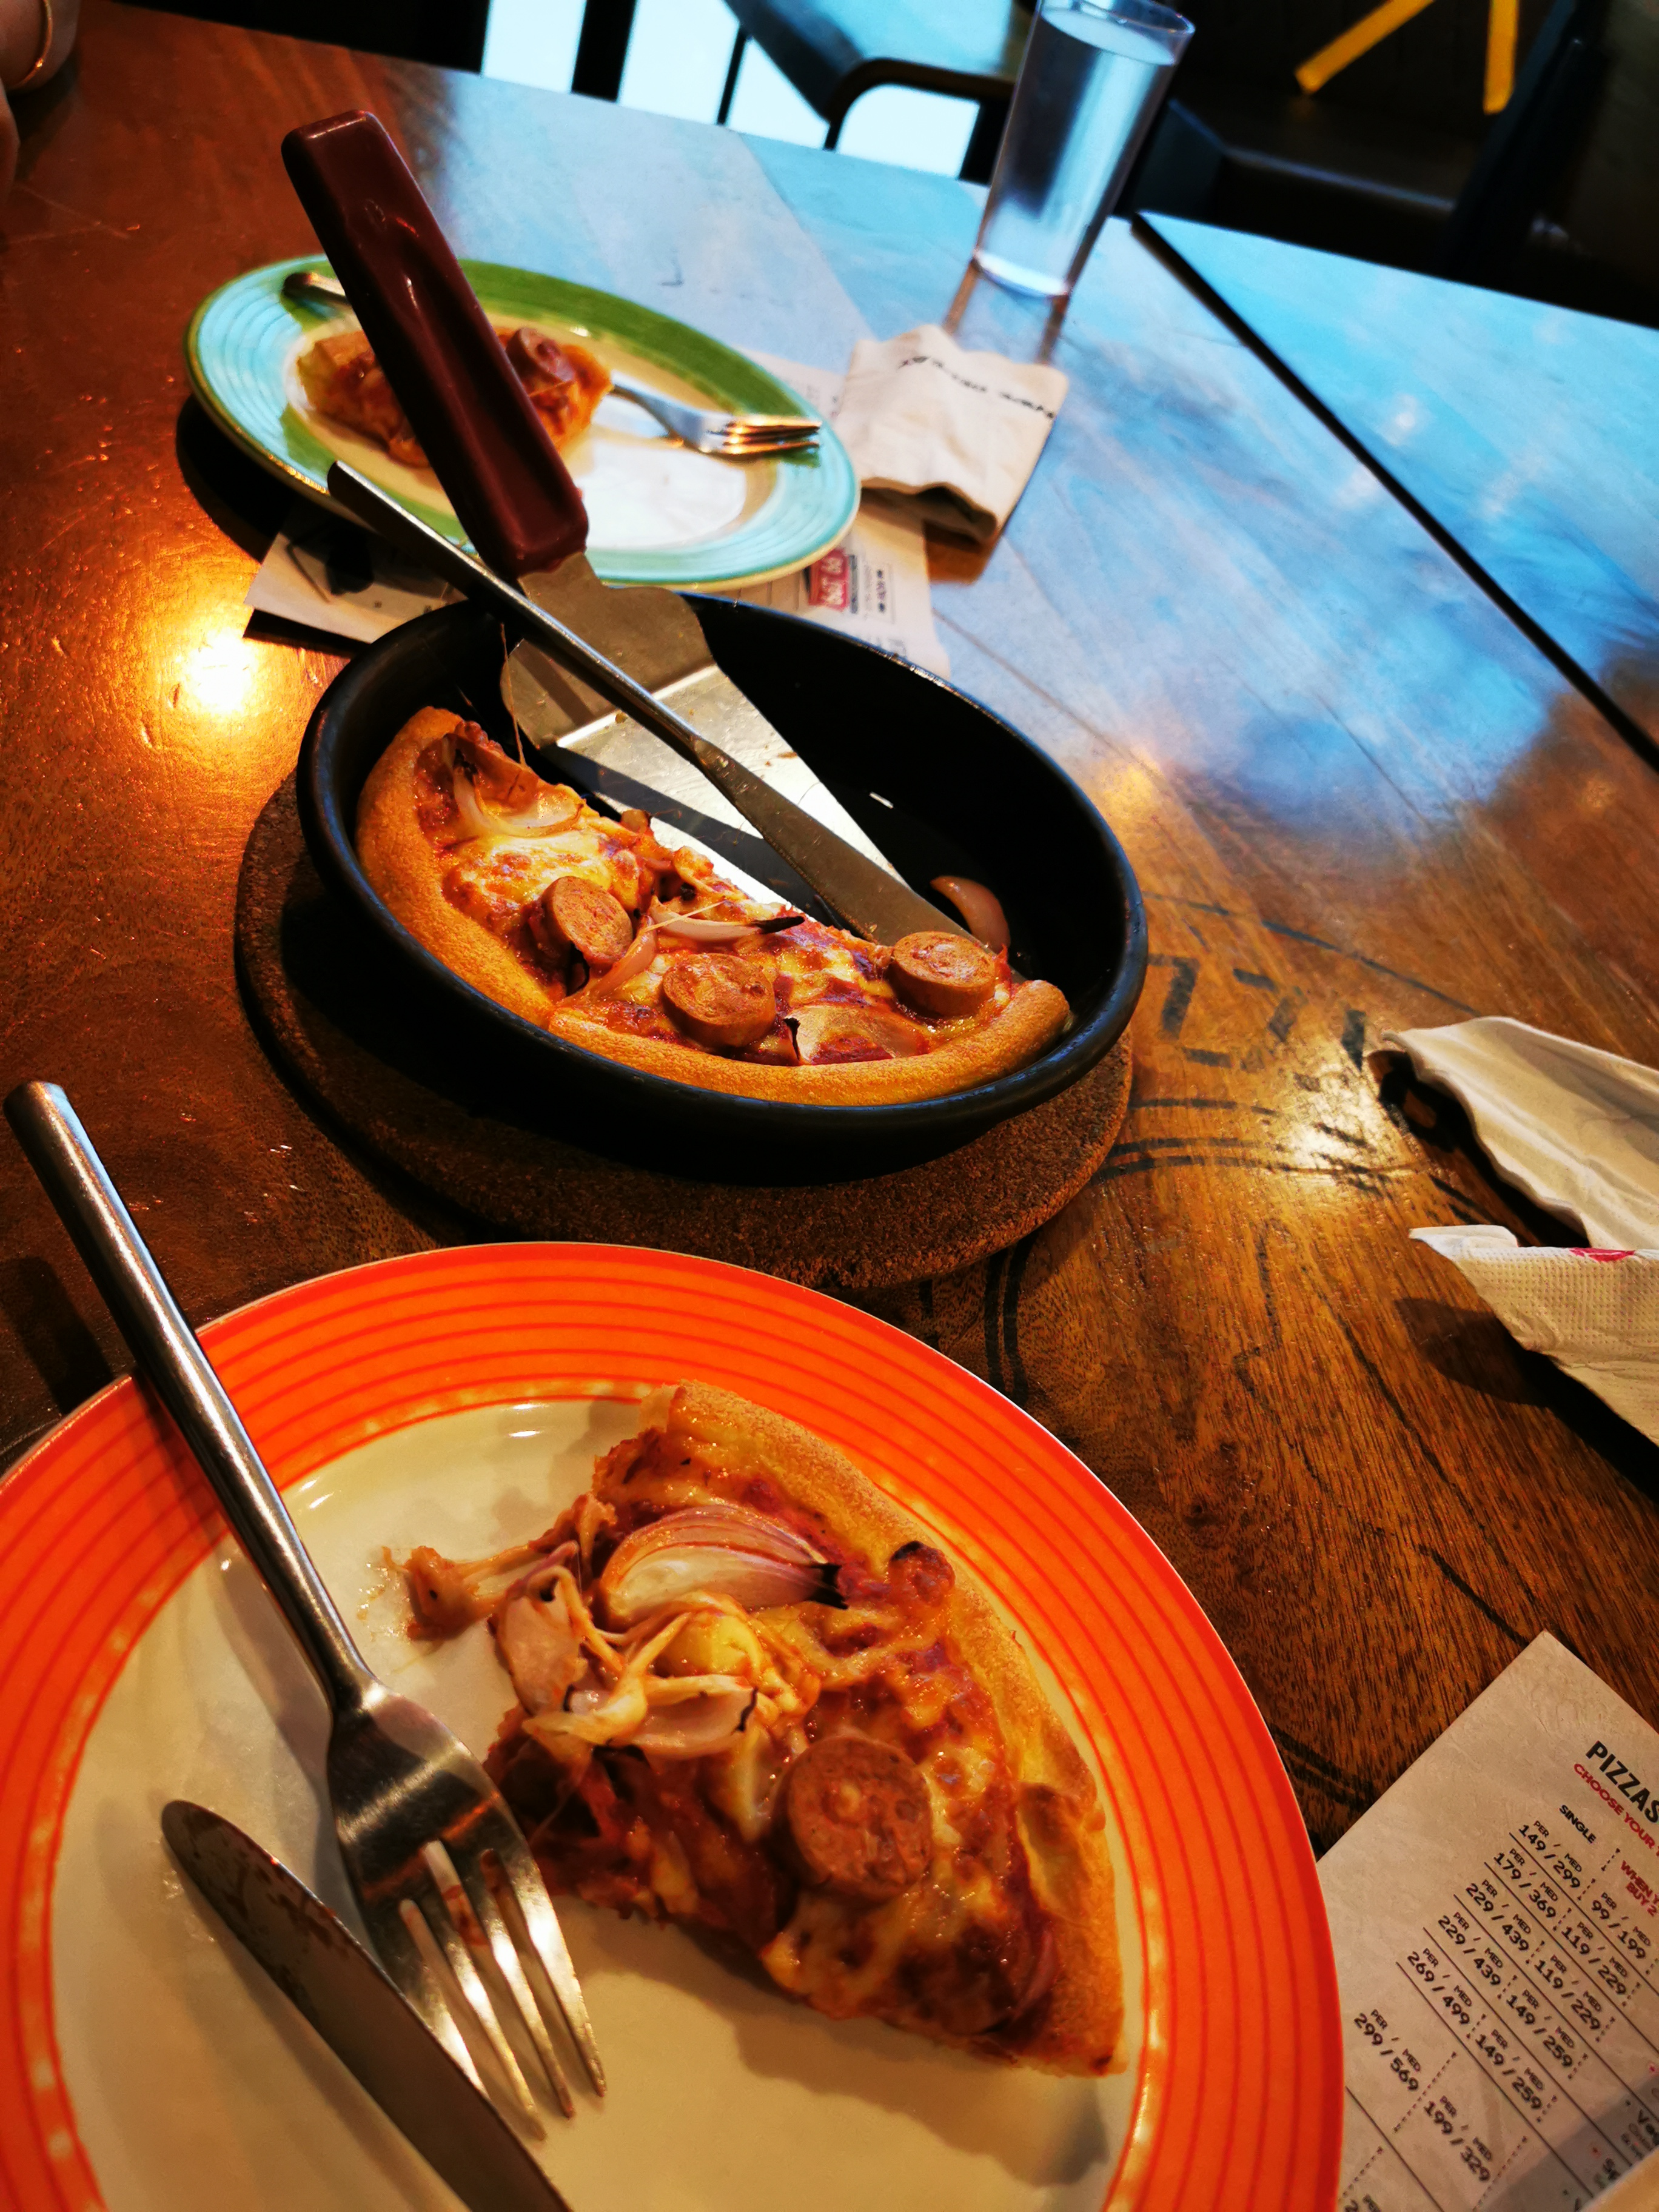food: (396, 1371, 1143, 2087), (338, 671, 1075, 1113), (286, 266, 620, 470)
